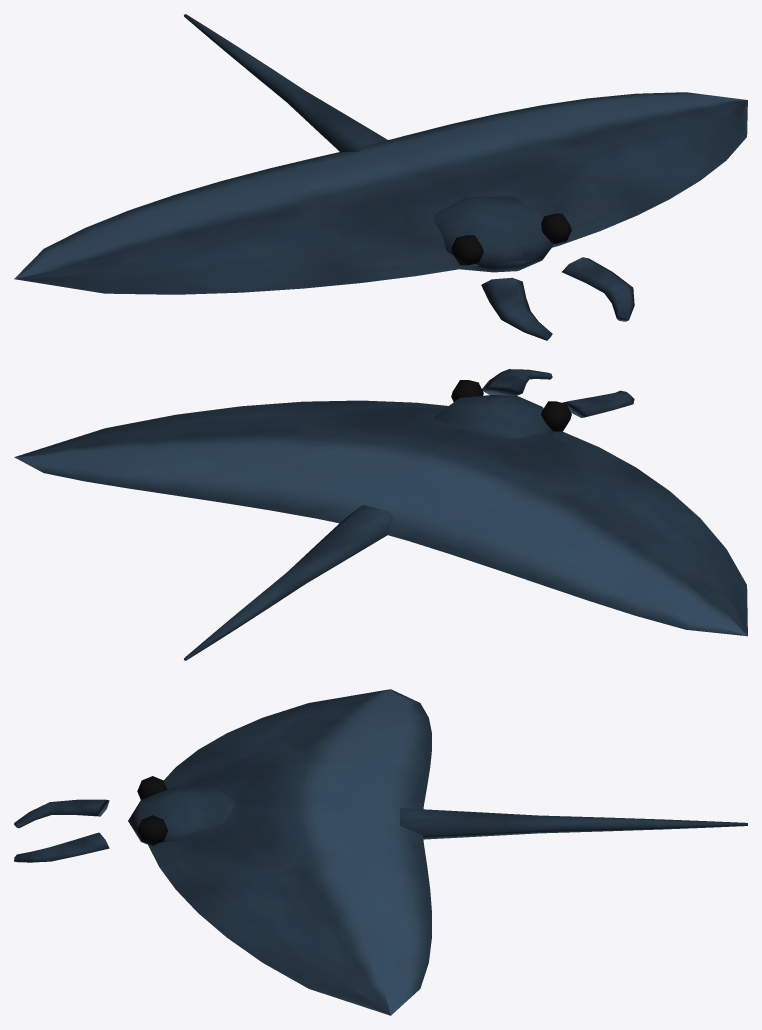
File: manta_ray.glb
3 views of the same model, one above another, from view 1: azimuth 30°, elevation 25°; view 2: azimuth 150°, elevation 25°; view 3: azimuth 270°, elevation 25° (orthographic). The views are drawn at different scales.
Size of the model in its own units: 3.8 by 0.2975 by 3.61.
1 material, 1 textured.
